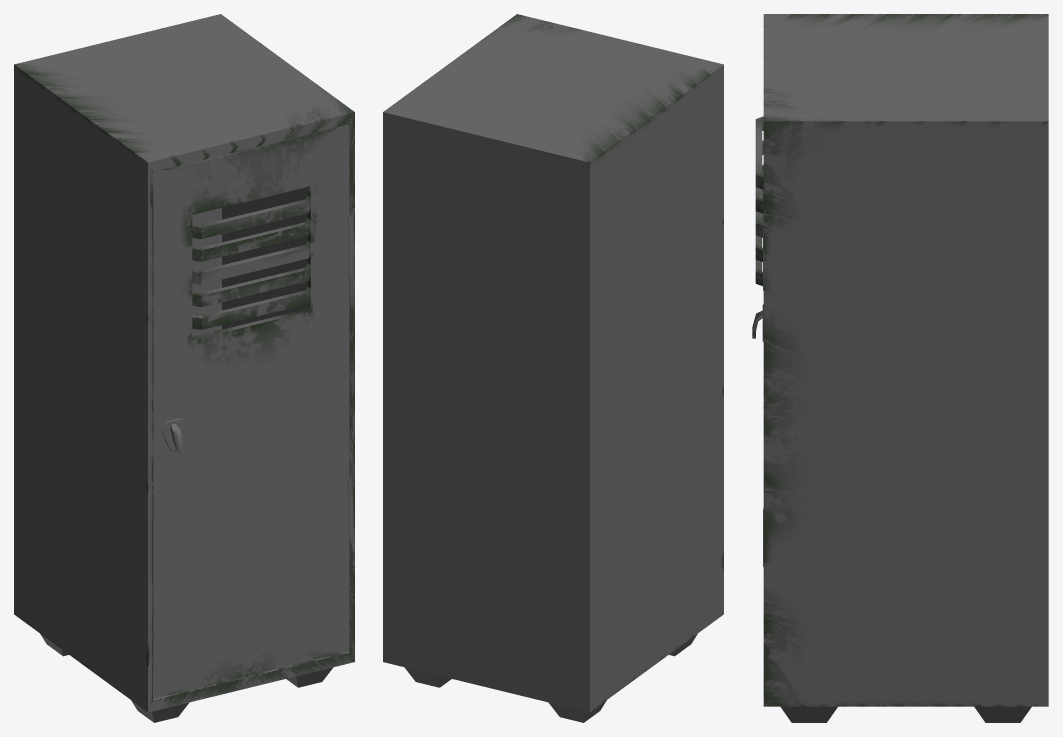
Rendered from locker.fbx.
3 renders of one model, left to right at view 1: azimuth 30°, elevation 25°; view 2: azimuth 150°, elevation 25°; view 3: azimuth 270°, elevation 25°, orthographic. The views are drawn at different scales.
Parts seen in each view (by area): view 1: lockerbase, lockerdoor; view 2: lockerbase; view 3: lockerbase, lockerdoor.
Part boxes in pixels (x1=…): lockerbase: x1=14, y1=14, x2=354, y2=722; lockerdoor: x1=153, y1=124, x2=349, y2=698; lockerbase: x1=383, y1=14, x2=723, y2=722; lockerbase: x1=763, y1=14, x2=1048, y2=722; lockerdoor: x1=752, y1=116, x2=763, y2=341.
Size of the model in its own units: 73.82 by 196 by 86.16.
1 material, 1 textured.
